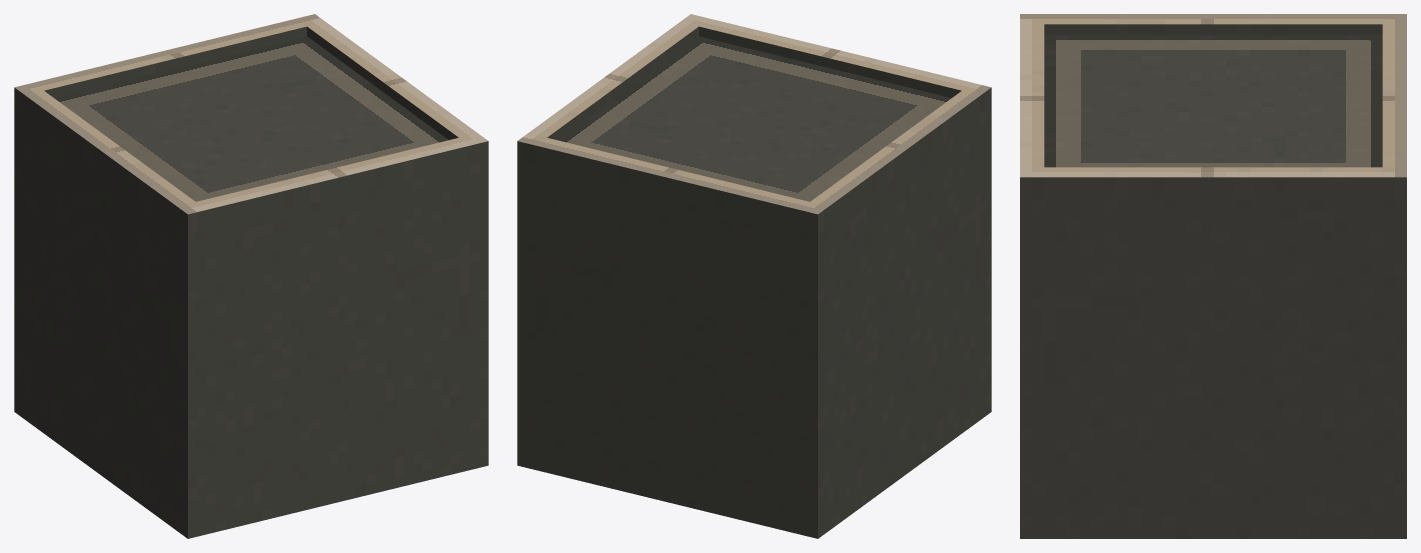
Rendered from road_asphalt_to_sidewalk_island.gltf.
3 views of the same model, side by side, from view 1: azimuth 30°, elevation 25°; view 2: azimuth 150°, elevation 25°; view 3: azimuth 270°, elevation 25° (orthographic). The views are drawn at different scales.
Parts seen in each view (by area): view 1: block_sides, transition_top; view 2: block_sides, transition_top; view 3: block_sides, transition_top.
Part boxes in pixels (x1,y1,x2,y2): block_sides: [14, 26, 488, 538]; transition_top: [15, 14, 487, 214]; block_sides: [517, 26, 991, 538]; transition_top: [518, 14, 990, 214]; block_sides: [1020, 24, 1406, 538]; transition_top: [1020, 14, 1406, 177].
Size of the model in its own units: 2 by 2.06 by 2.
Materials: 2 (2 with a texture image).
